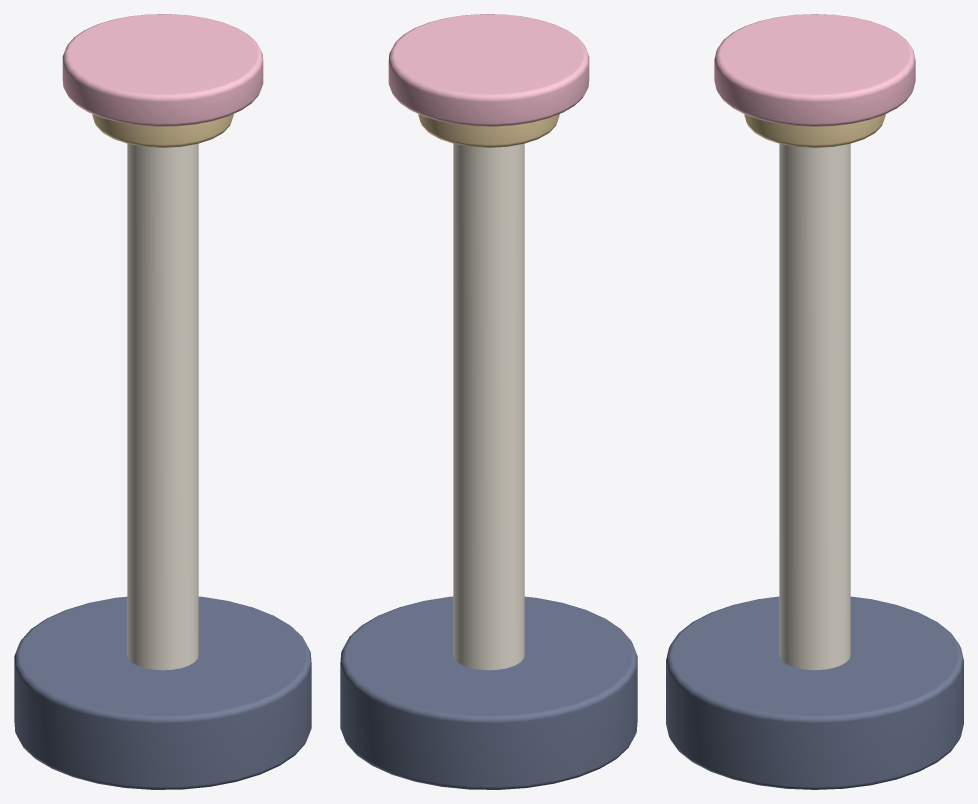
File: QueuePost.fbx
3 views of the same model, side by side, from view 1: azimuth 30°, elevation 25°; view 2: azimuth 150°, elevation 25°; view 3: azimuth 270°, elevation 25° (orthographic).
Visible parts, largest first — view 1: WeightedBase, Stem, TopCap, Collar; view 2: WeightedBase, Stem, TopCap, Collar; view 3: WeightedBase, Stem, TopCap, Collar.
Boxes of the visible parts, <box> form: WeightedBase: <box>14,596,311,789</box>; Stem: <box>127,143,198,670</box>; TopCap: <box>62,14,263,126</box>; Collar: <box>92,114,233,147</box>; WeightedBase: <box>340,596,637,789</box>; Stem: <box>453,143,524,670</box>; TopCap: <box>388,14,589,126</box>; Collar: <box>418,114,559,147</box>; WeightedBase: <box>666,596,963,789</box>; Stem: <box>779,143,850,670</box>; TopCap: <box>714,14,915,126</box>; Collar: <box>744,114,885,147</box>.
Bounding box in the file's own units: 40 × 100 × 40.
